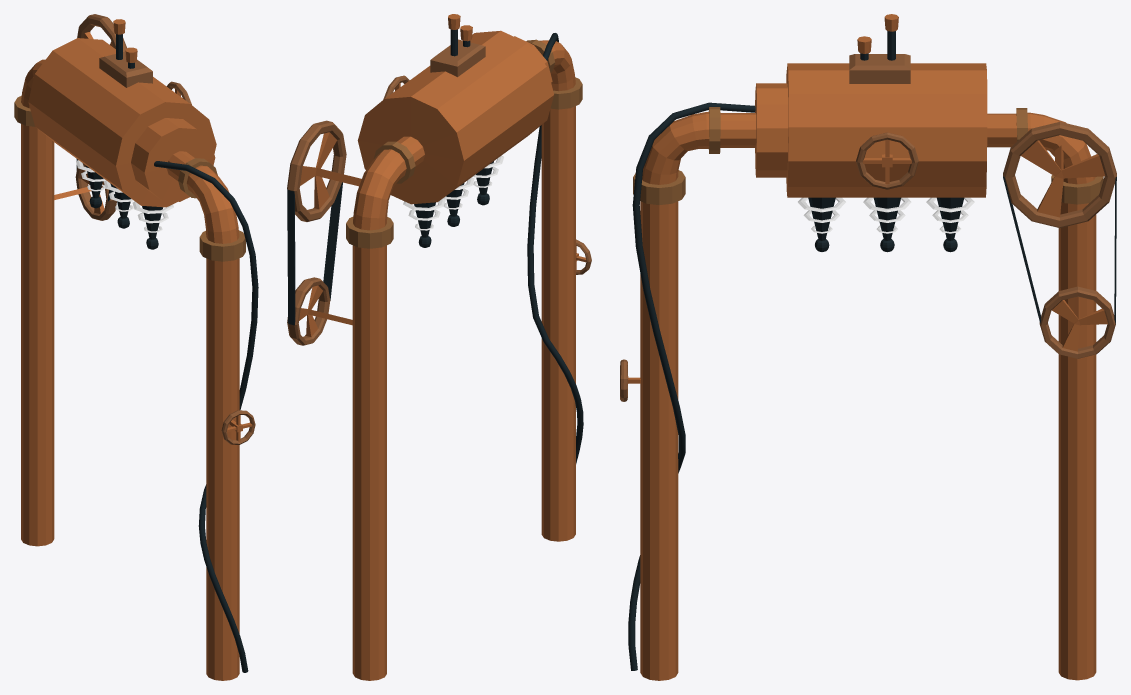
File: P_Portal_01.fbx
3 renders of one model, left to right at view 1: azimuth 30°, elevation 25°; view 2: azimuth 150°, elevation 25°; view 3: azimuth 270°, elevation 25°, orthographic. The views are drawn at different scales.
Parts seen in each view (by area): view 1: P_Portal_01; view 2: P_Portal_01; view 3: P_Portal_01.
Boxes of the visible parts, bbox=[...] form: P_Portal_01: bbox=[14, 14, 258, 680]; P_Portal_01: bbox=[287, 14, 591, 680]; P_Portal_01: bbox=[620, 14, 1116, 680].
Size of the model in its own units: 70.38 by 340 by 233.
